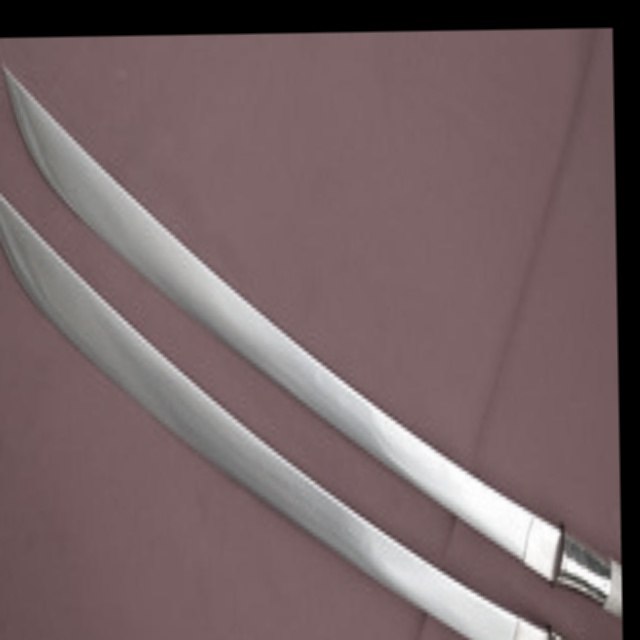Sharp-Object: (0, 28, 622, 630), (0, 155, 616, 640)
